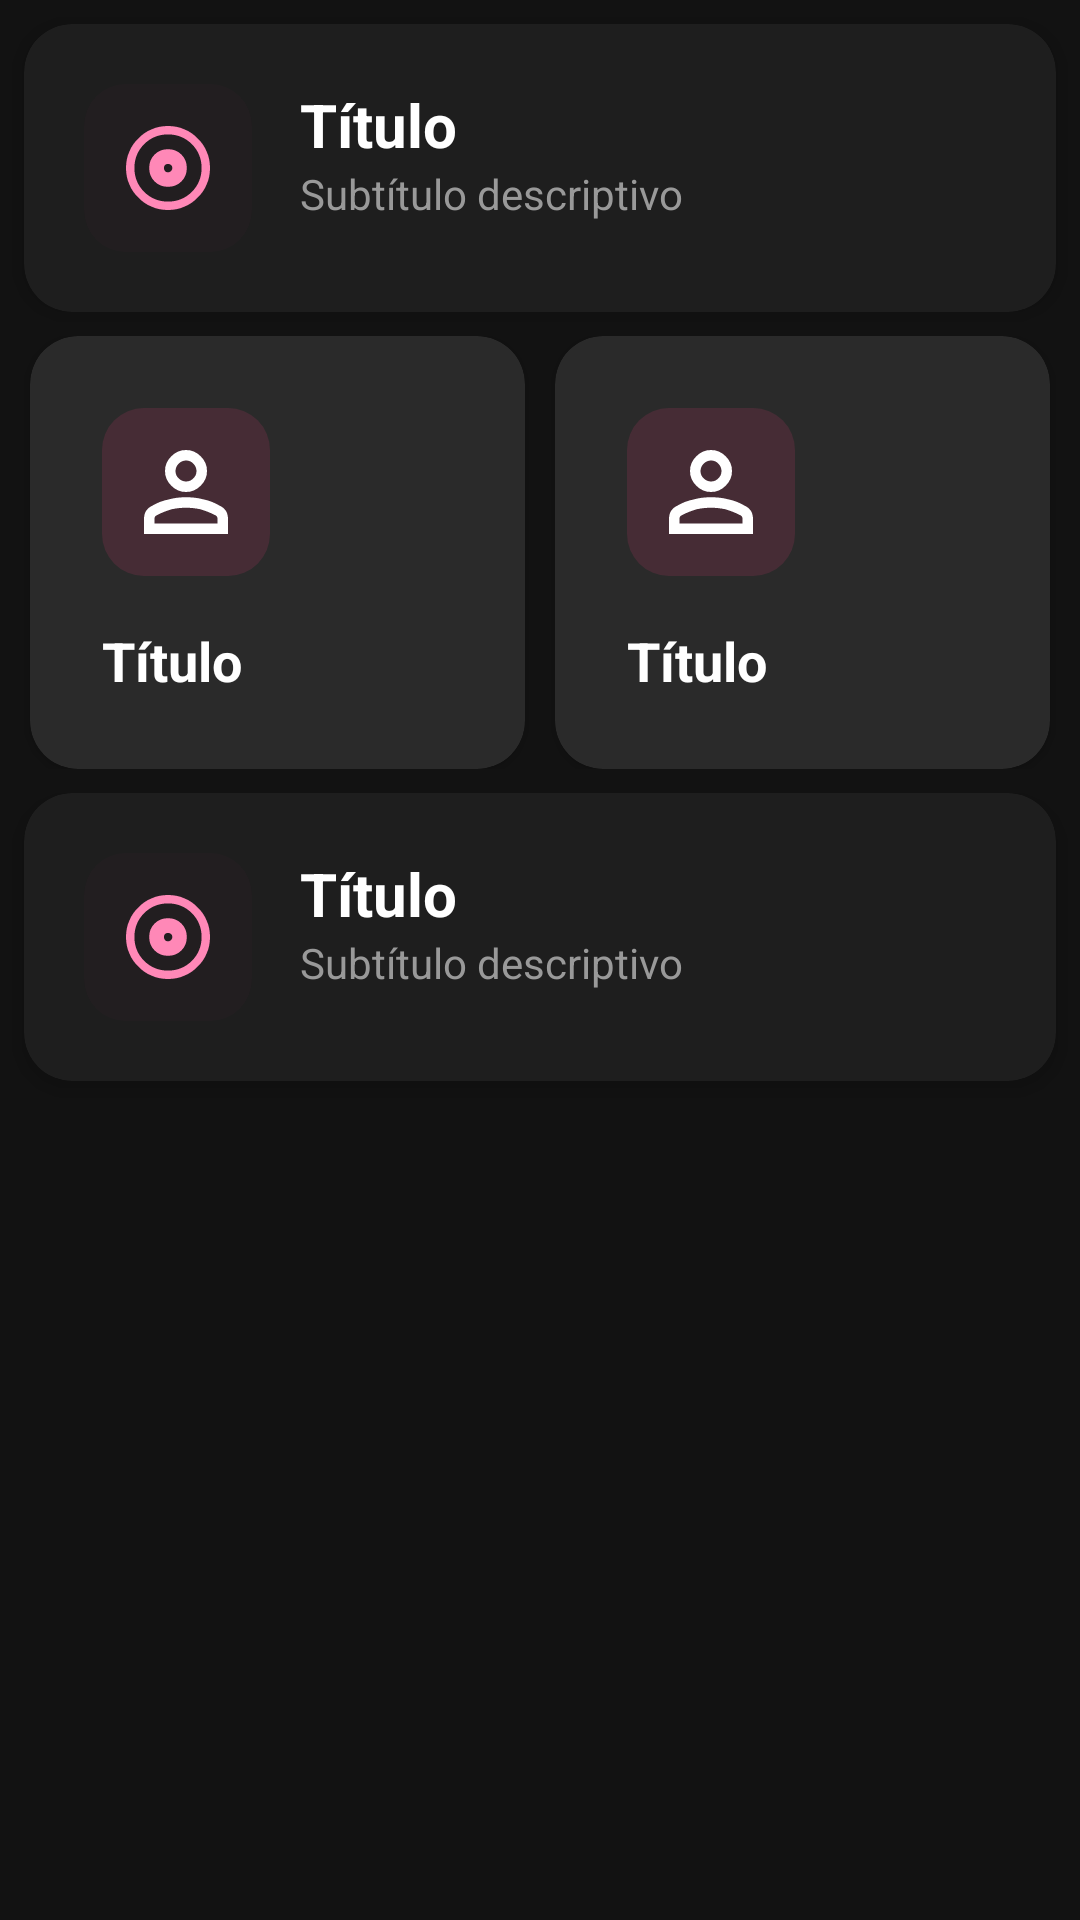

Icons on this 1080w x 1920h Android screen, each with the point to tap as point (x, y):
artists: point (186, 492), point (711, 492)
Ícono de álbum: point (168, 168), point (168, 937)
